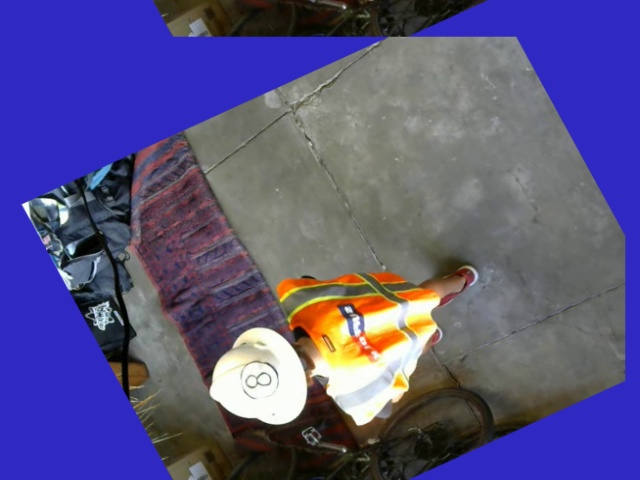eight: (229, 353, 286, 406)
